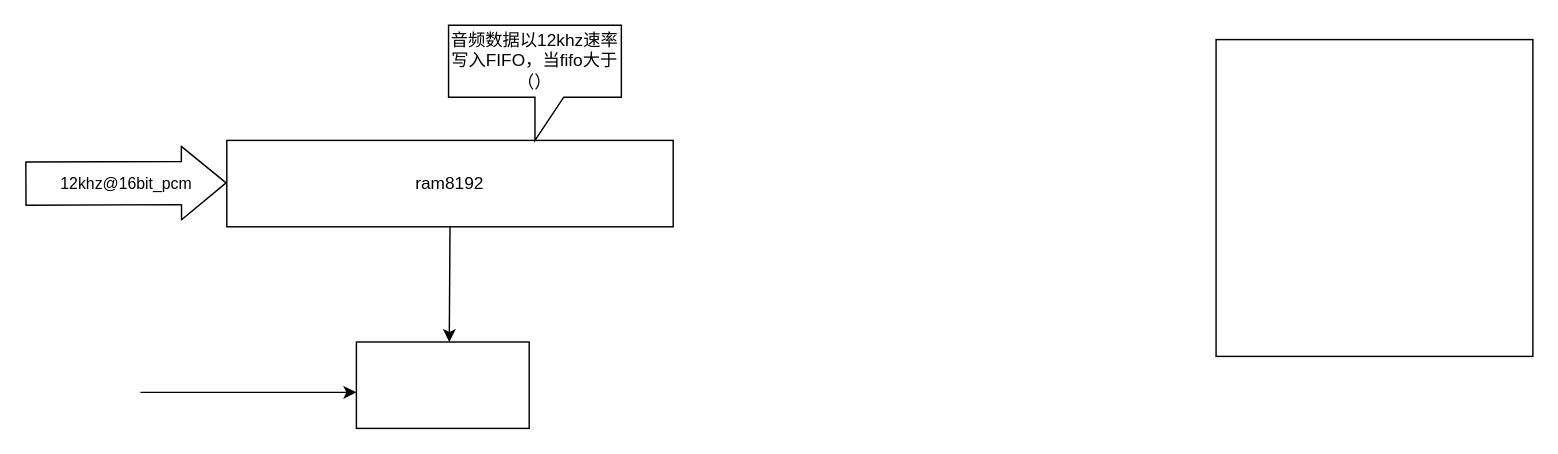
The diagram is 1558 pixels wide and 454 high, and some of its shapes have lost their labels. The centre of each missing label's shape, as x and y in pixels:
"12k 8192点 Time:683ms F：1.46HZ" goes at (1374,197).
"FFT8192" goes at (442,384).
